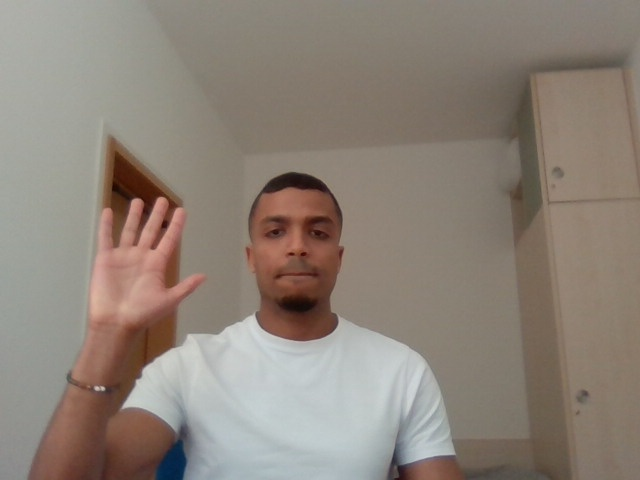hello: (84, 183, 224, 342)
